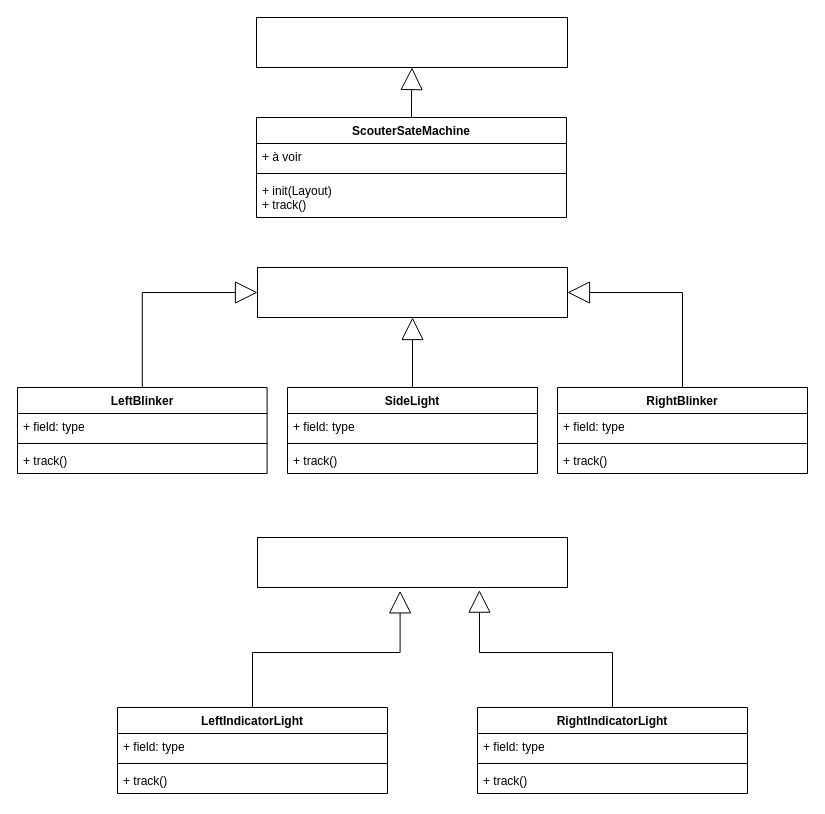
Some shapes in this 825 by 814 pixel diagram are drawn without their labels. The box of each missing label's shape, as (x1, y1, x2, y2) in pixels:
Blinker: (256, 536, 568, 588)
SideBlinker: (256, 266, 568, 318)
StateMachineDevice: (256, 16, 568, 68)
